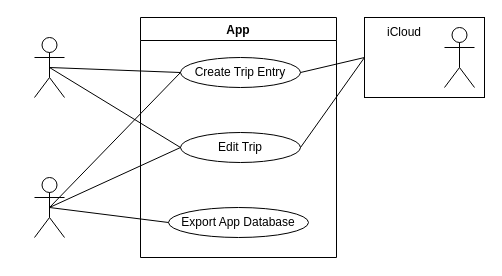
This 502x276 diagram has some shape labels left out. Here are the shapes that lost their labels. From the top down, the centre of each, then its label:
the point at 49,67: Mobile User
the point at 49,207: Power User
